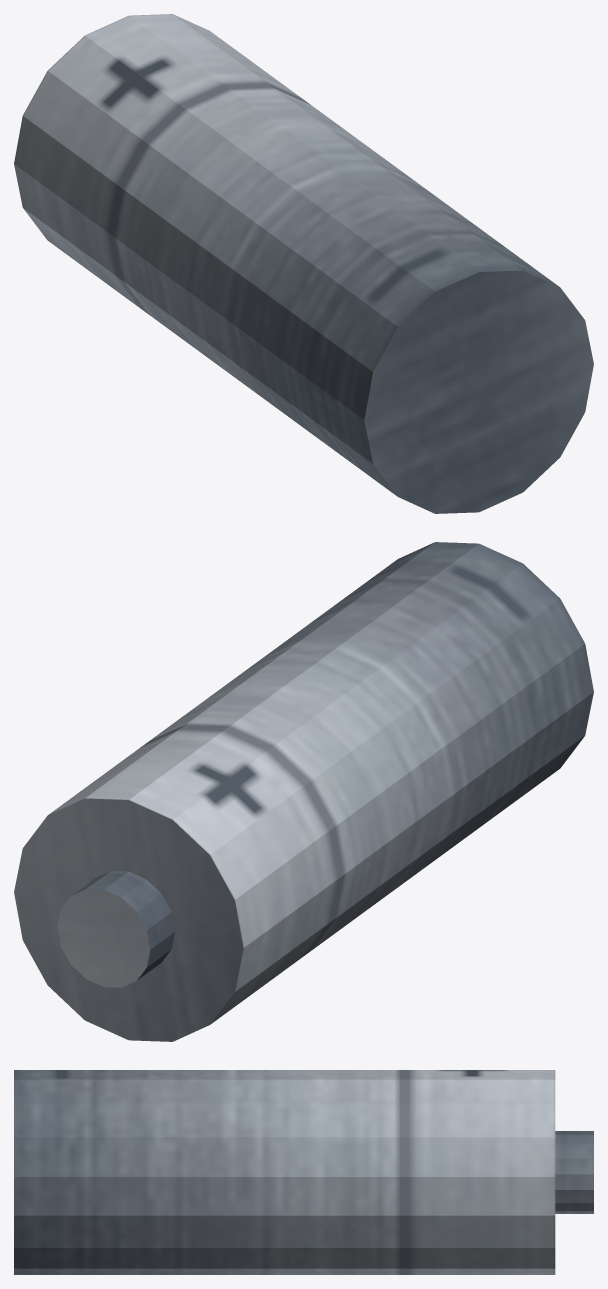
The model's file is PDH_Battery.fbx.
The picture shows the model from 3 angles, top to bottom: view 1: azimuth 30°, elevation 25°; view 2: azimuth 150°, elevation 25°; view 3: azimuth 270°, elevation 25°; orthographic projection. The views are drawn at different scales.
Parts seen in each view (by area): view 1: Cylinder.001; view 2: Cylinder.001; view 3: Cylinder.001.
Boxes of the visible parts, left/top/right/bottom form: Cylinder.001: left=14, top=14, right=593, bottom=513; Cylinder.001: left=14, top=542, right=593, bottom=1041; Cylinder.001: left=14, top=1070, right=593, bottom=1274.
Bounding box in the file's own units: 158 × 447 × 158.
